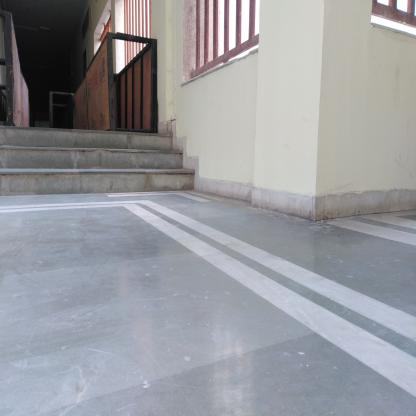stairs: (3, 130, 171, 199)
